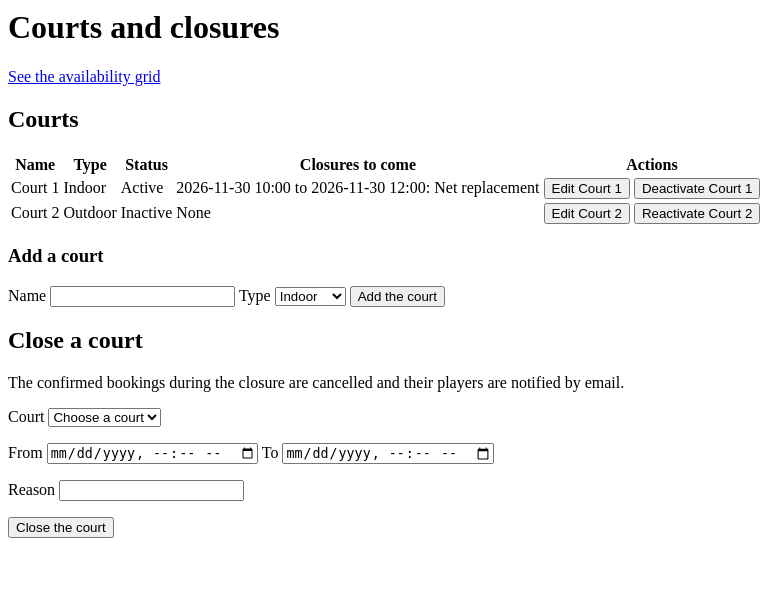
Courts and closures page › shows why a court cannot be deactivated
This screenshot has width=777, height=589.
Click the button "Deactivate Court 1": coordinates (697, 188) x1=634 y1=178 x2=760 y2=199
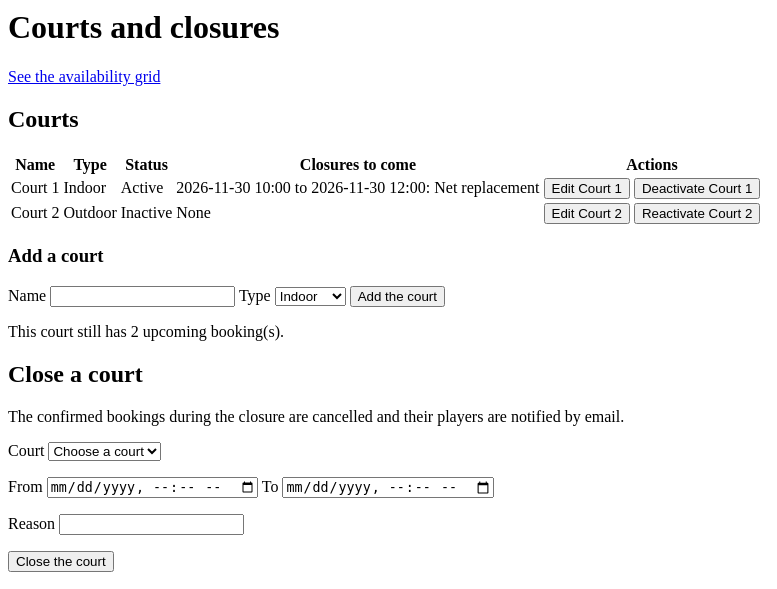
Result: the message reads "This court still has 2 upcoming booking(s)." at x1=8 y1=323 x2=284 y2=340
